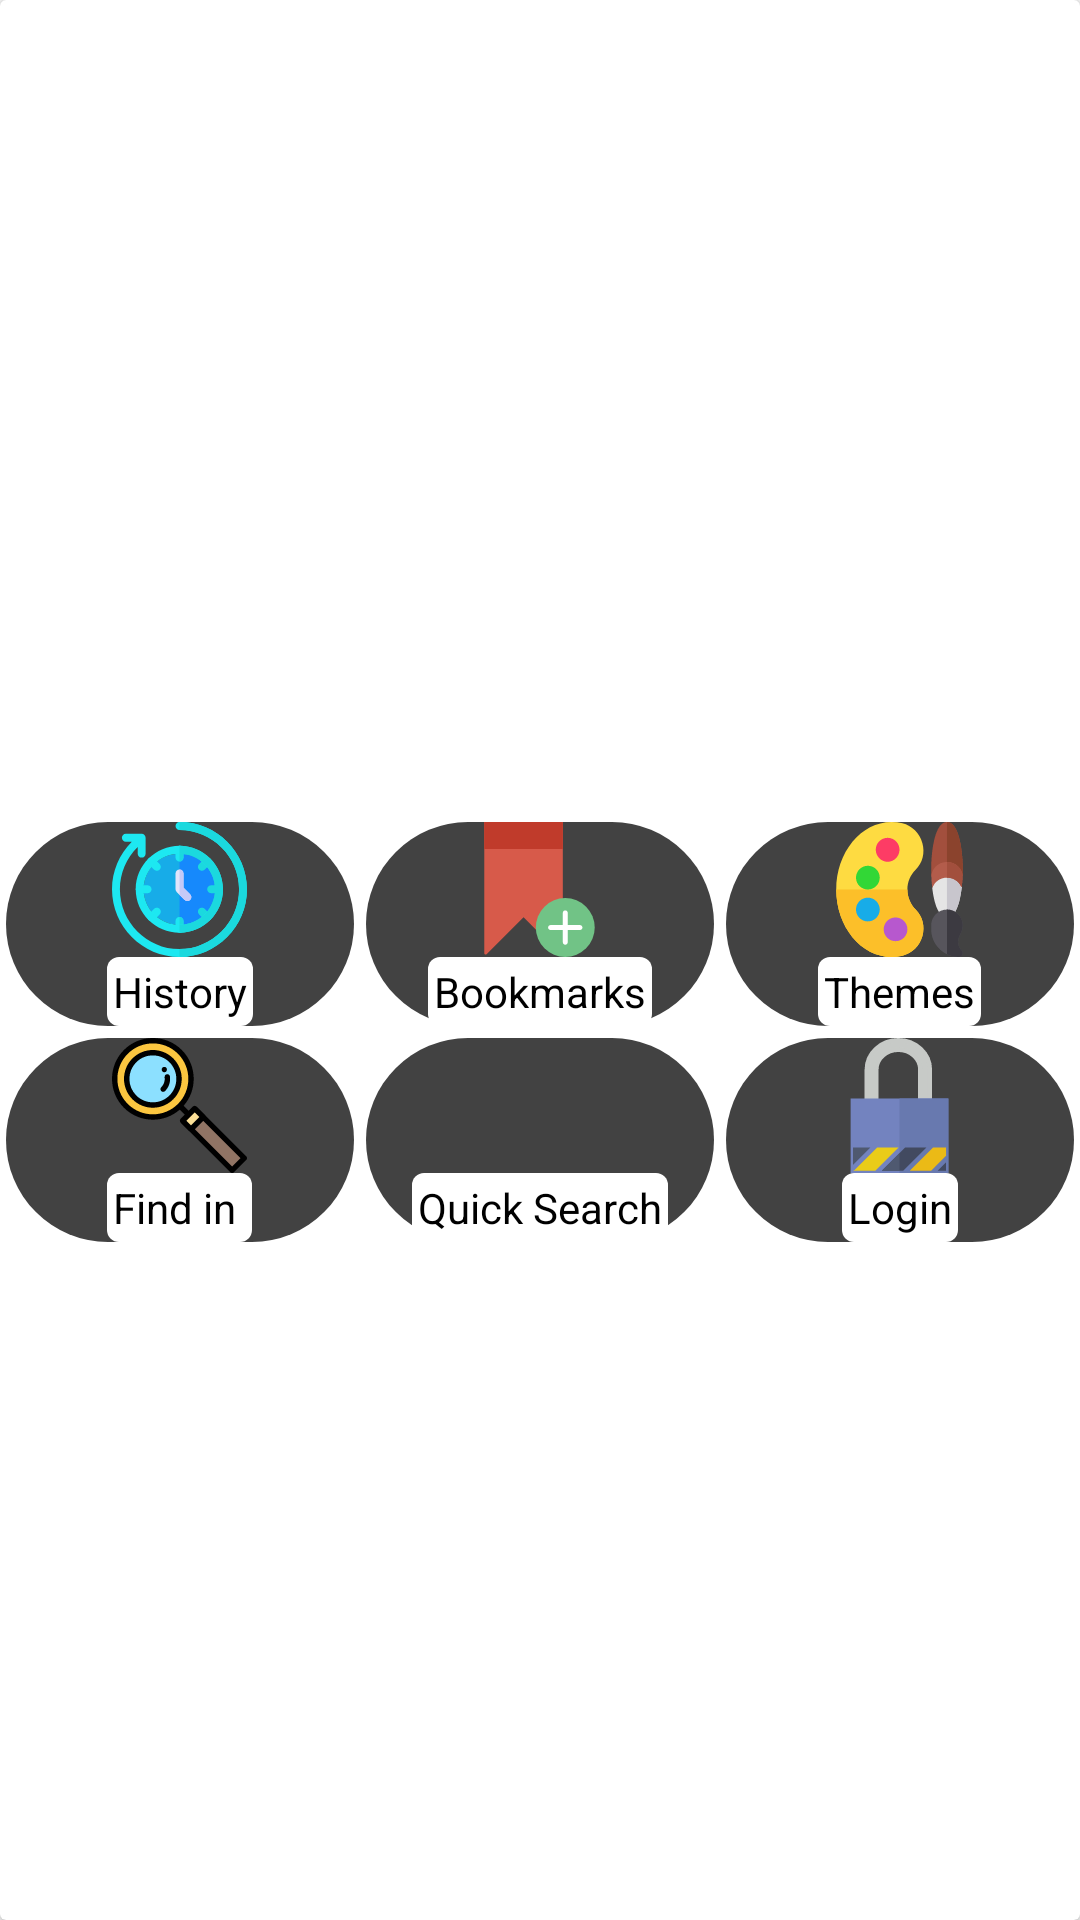

Point at icon controls on the screen. Image size 1080px x 1920px, points as (x,y).
lens: (179,1105)
locked: (899,1105)
paint palette: (899,889)
